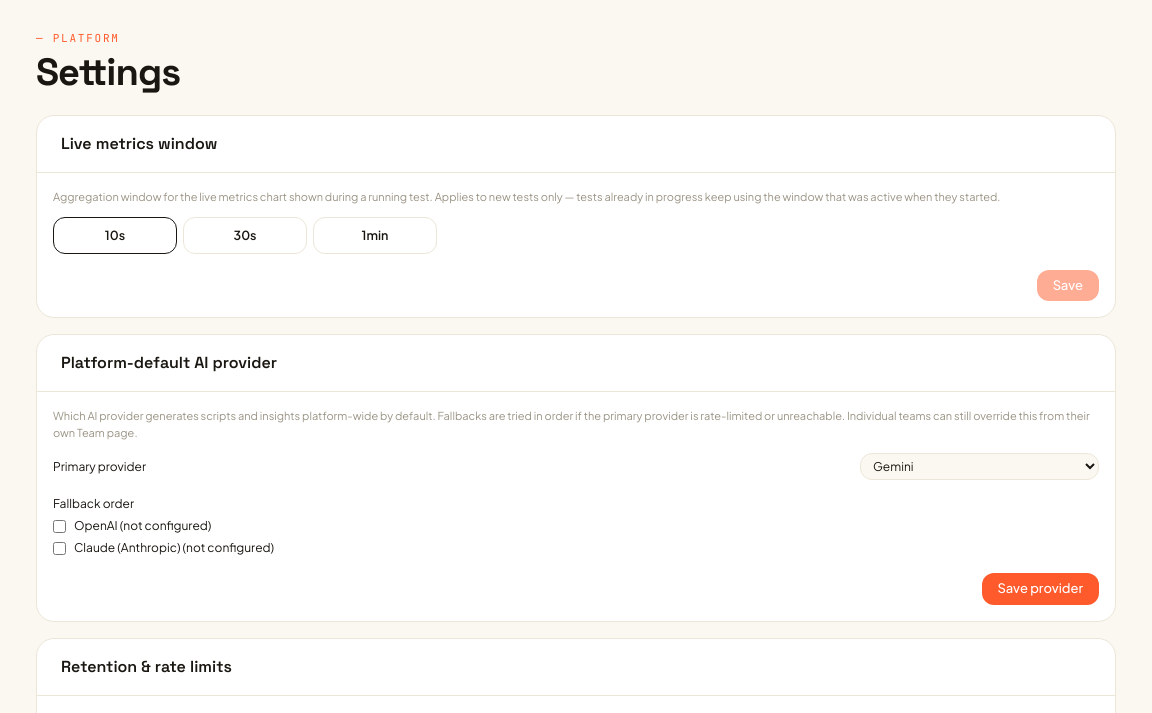
Test: SettingsPage — admin, saving a change › shows "Saved" and re-disables Save after a successful save
Expected: the text "10s" is shown, 105,227 -> 125,243
Step 1. Click the button "1min" → (375, 235), box 313,217 -> 437,254
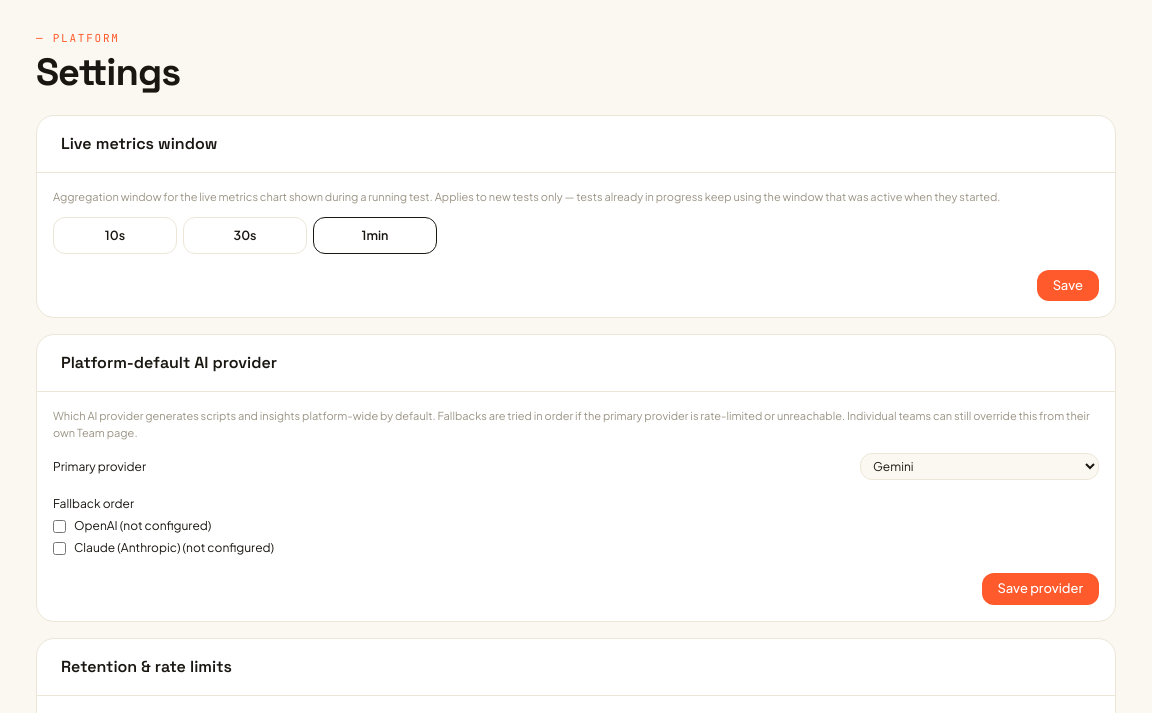
Step 2. Click the button "Save" → (1068, 286), box 1037,270 -> 1099,301
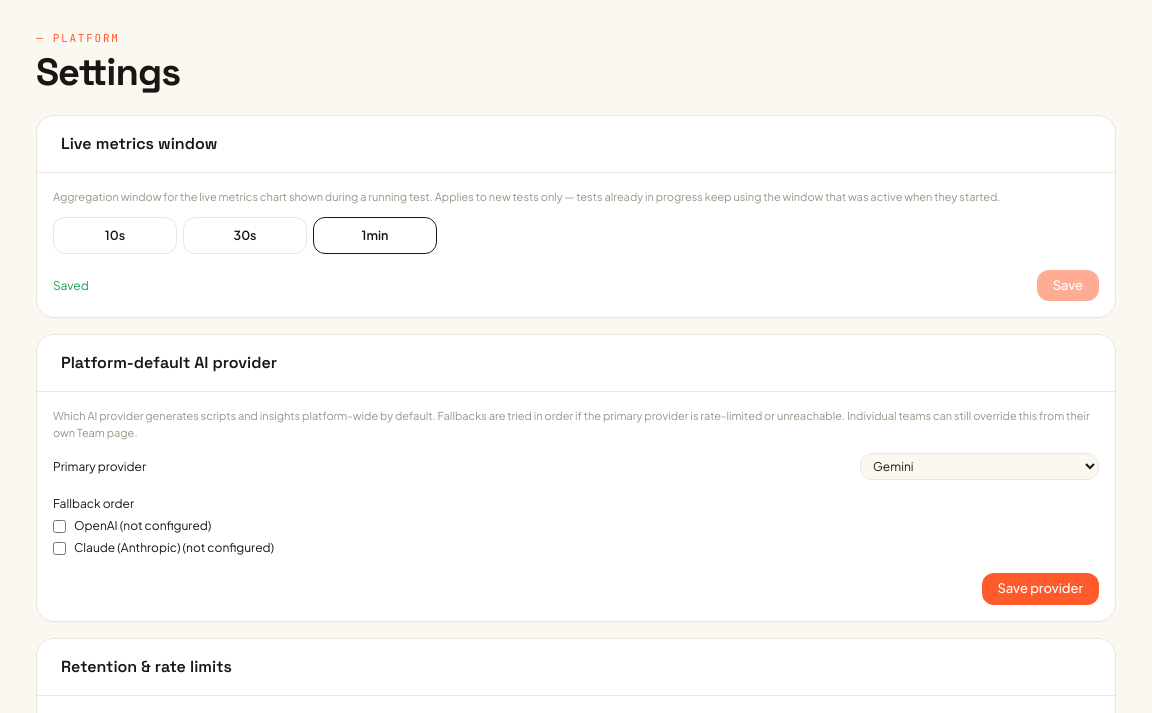
Expected: the text "Saved" is shown, 53,276 -> 89,294
Expected: the button "Save" is disabled, 1037,270 -> 1099,301
